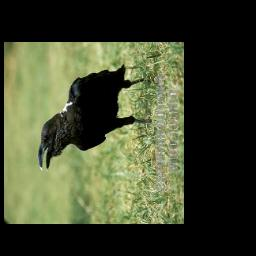Crow: (35, 61, 156, 175)
